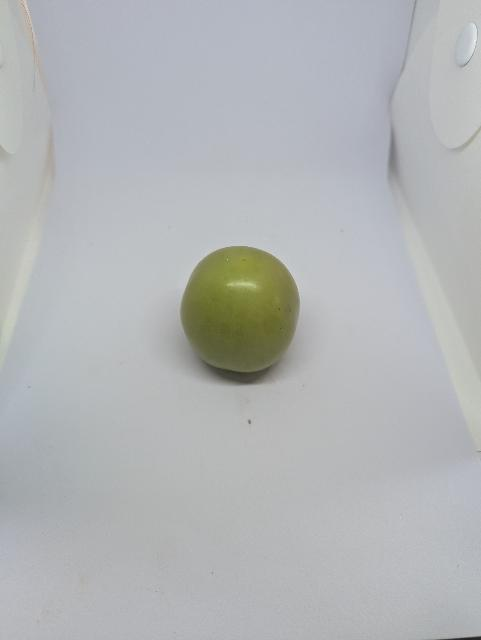green: (170, 241, 315, 392)
